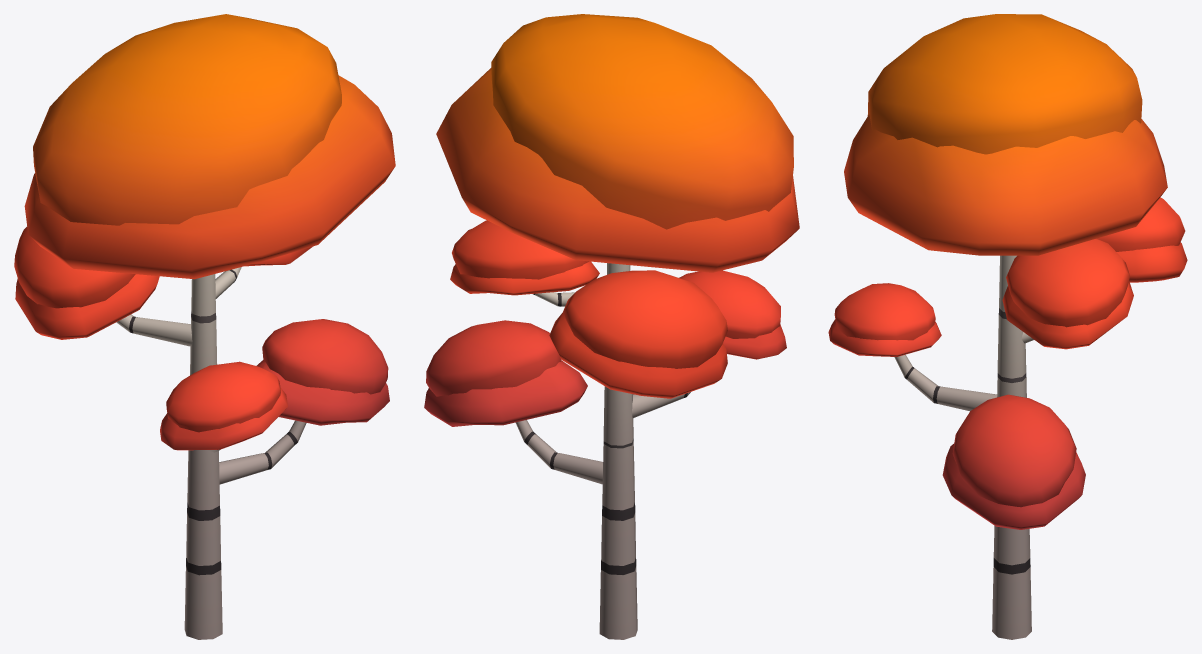
File: arboles6.fbx
3 renders of one model, left to right at view 1: azimuth 30°, elevation 25°; view 2: azimuth 150°, elevation 25°; view 3: azimuth 270°, elevation 25°, orthographic.
Visible parts, largest first — view 1: Tree.021_Base_Material_0.001; view 2: Tree.021_Base_Material_0.001; view 3: Tree.021_Base_Material_0.001.
Part boxes in pixels (x1=…): Tree.021_Base_Material_0.001: x1=14, y1=14, x2=395, y2=639; Tree.021_Base_Material_0.001: x1=424, y1=14, x2=799, y2=639; Tree.021_Base_Material_0.001: x1=828, y1=14, x2=1187, y2=639.
Bounding box in the file's own units: 434 × 711 × 384.
